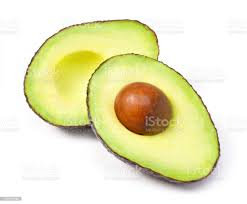avocado: (86, 53, 221, 183), (23, 18, 160, 126)
